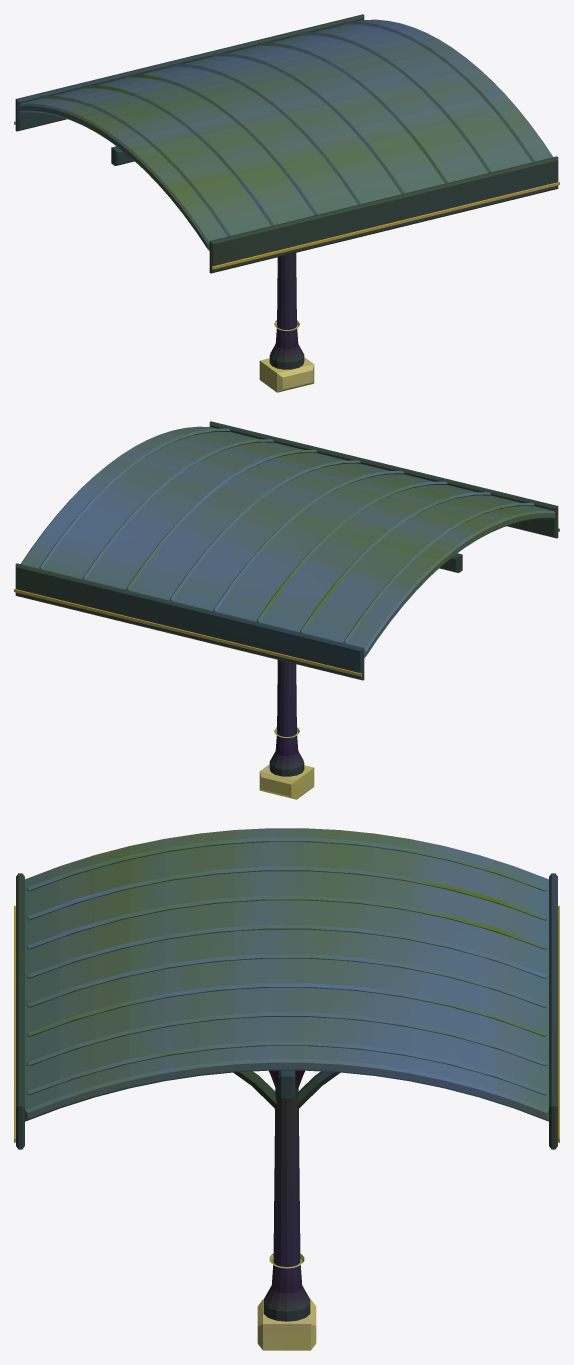
Rendered from GS_PlatformCanopy_Island_6m.glb.
3 views of the same model, one above another, from view 1: azimuth 30°, elevation 25°; view 2: azimuth 150°, elevation 25°; view 3: azimuth 270°, elevation 25° (orthographic). The views are drawn at different scales.
Visible parts, largest first — view 1: GS_PlatformCanopy_Island_6m; view 2: GS_PlatformCanopy_Island_6m; view 3: GS_PlatformCanopy_Island_6m.
Boxes of the visible parts, box(x1,y1,x2,y2) form: GS_PlatformCanopy_Island_6m: box(14, 14, 559, 392); GS_PlatformCanopy_Island_6m: box(14, 421, 559, 799); GS_PlatformCanopy_Island_6m: box(14, 828, 559, 1350).
Bounding box in the file's own units: 6 × 4.79 × 5.94.
